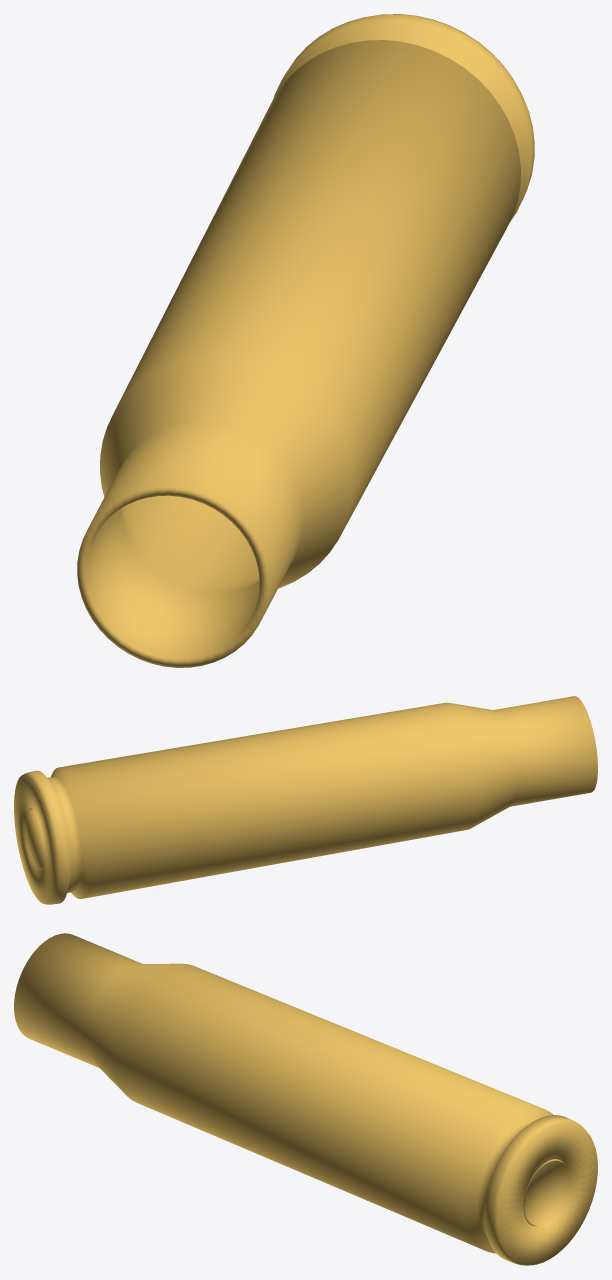
Rendered from Mermi_Bos_Kovan_762.glb.
3 views of the same model, one above another, from view 1: azimuth 30°, elevation 25°; view 2: azimuth 150°, elevation 25°; view 3: azimuth 270°, elevation 25° (orthographic). The views are drawn at different scales.
Visible parts, largest first — view 1: Mermi_Bos_Kovan_762_Case; view 2: Mermi_Bos_Kovan_762_Case; view 3: Mermi_Bos_Kovan_762_Case.
Part boxes in pixels (x1,y1,x2,y2): Mermi_Bos_Kovan_762_Case: (77, 14, 534, 667); Mermi_Bos_Kovan_762_Case: (14, 696, 597, 904); Mermi_Bos_Kovan_762_Case: (14, 933, 597, 1265).
Size of the model in its own units: 0.0416 by 0.013 by 0.045.
